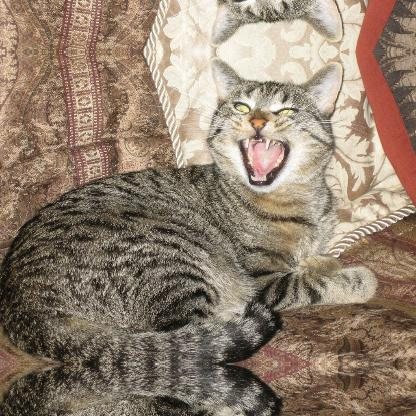Cat: (0, 55, 379, 364)
